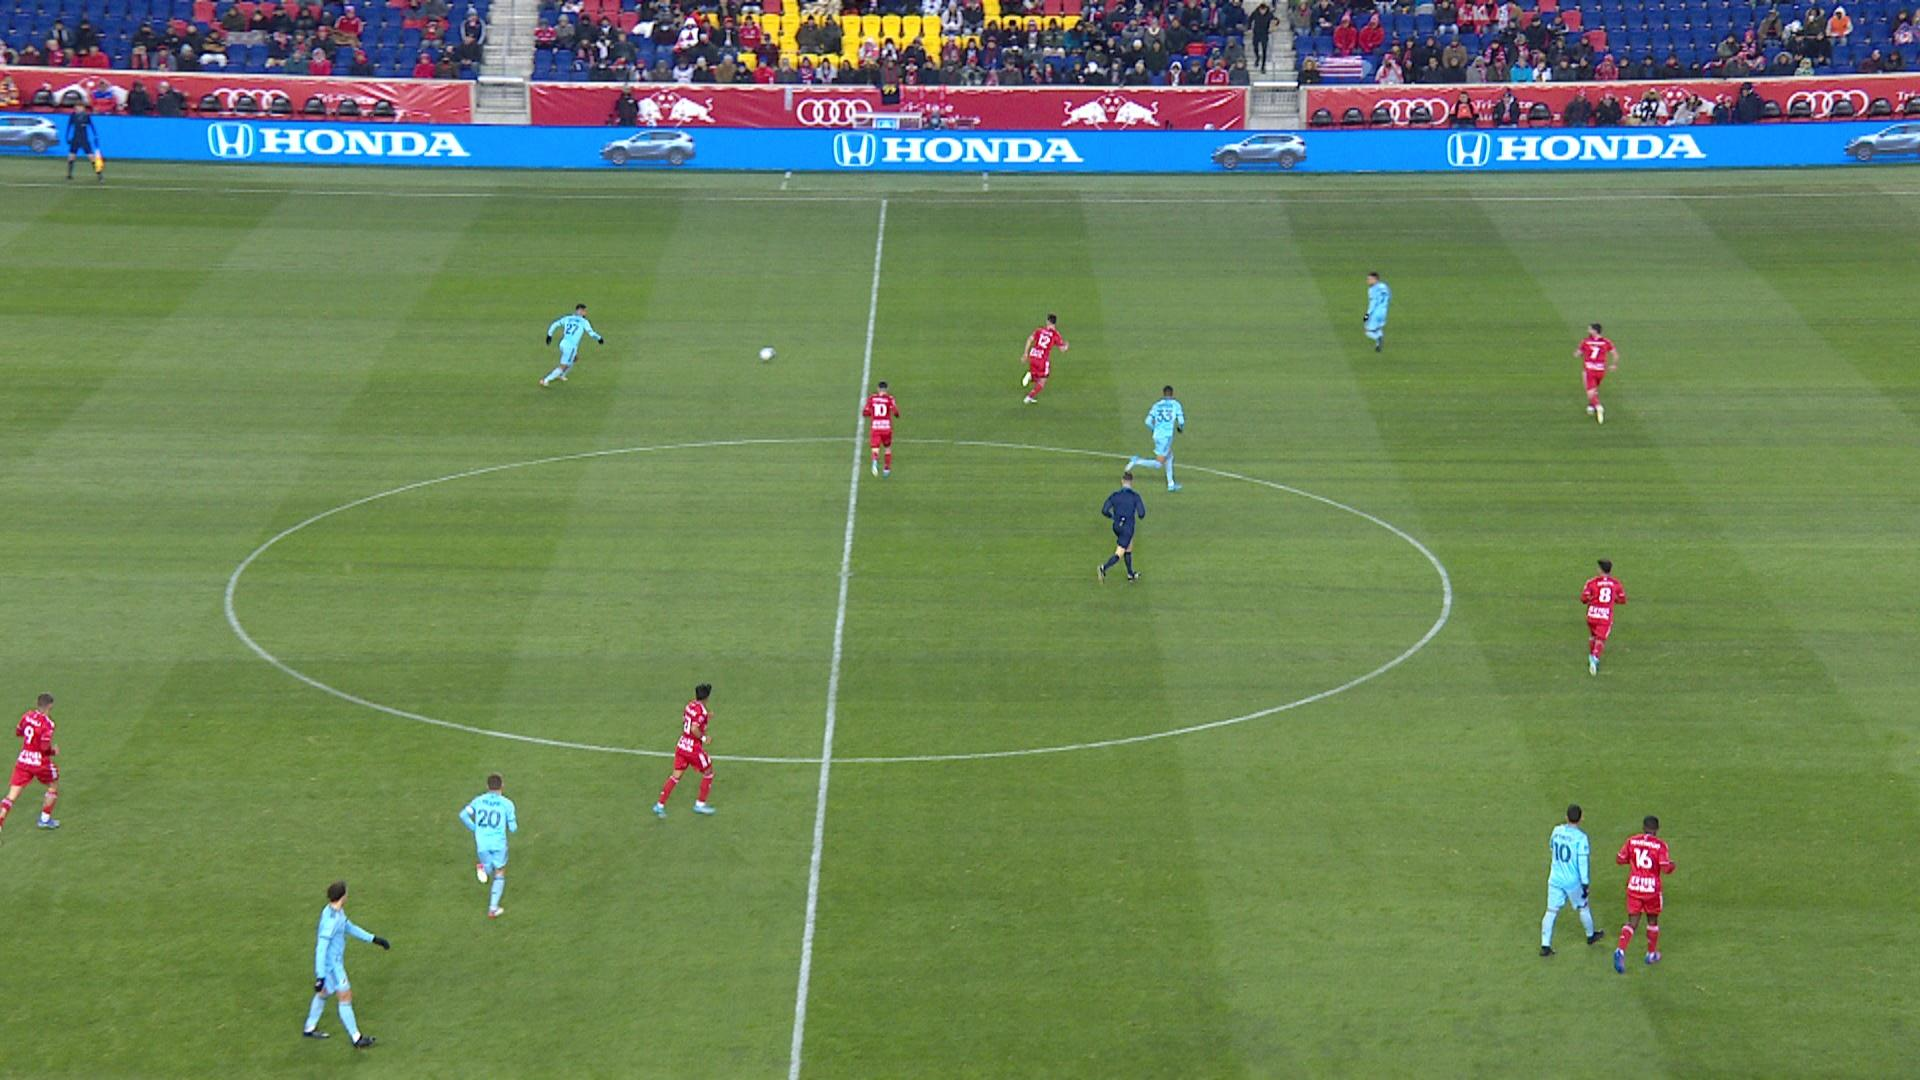football: (758, 345, 777, 363)
